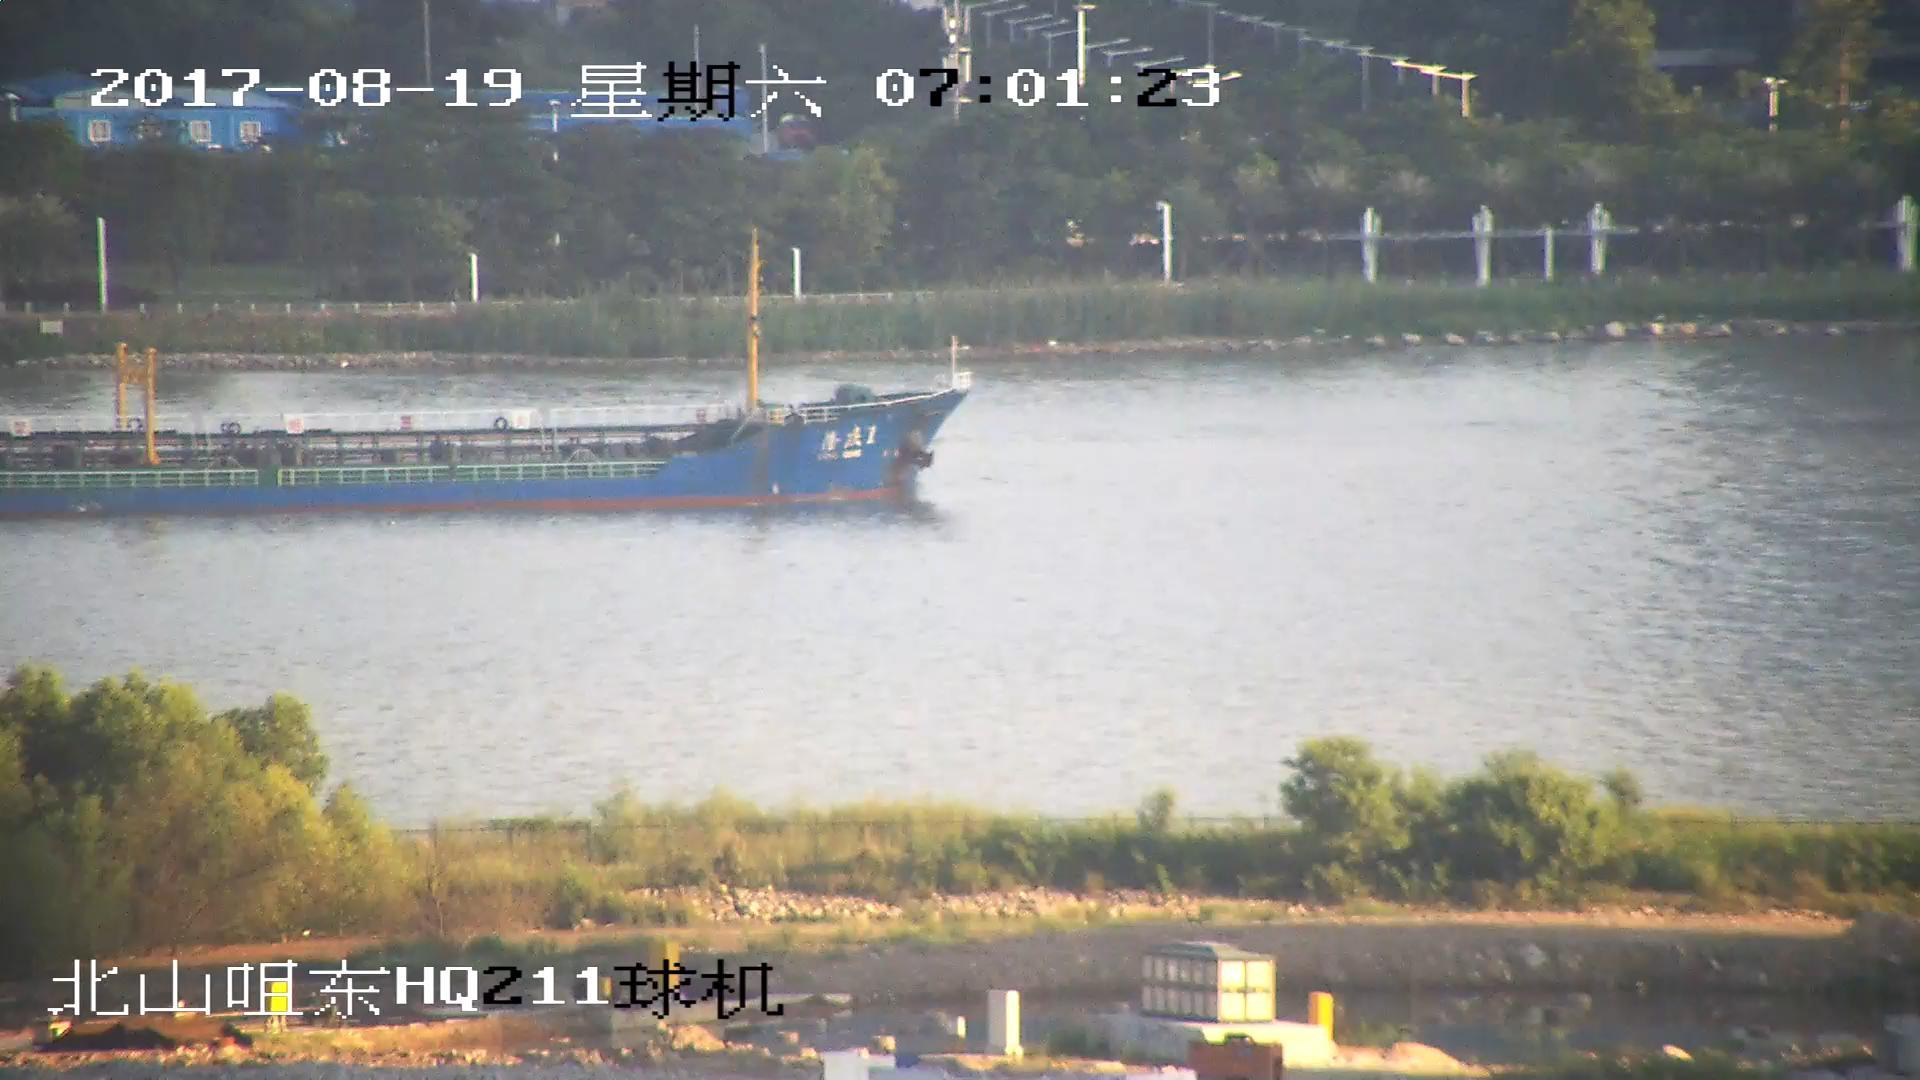Ship: (3, 224, 957, 509)
